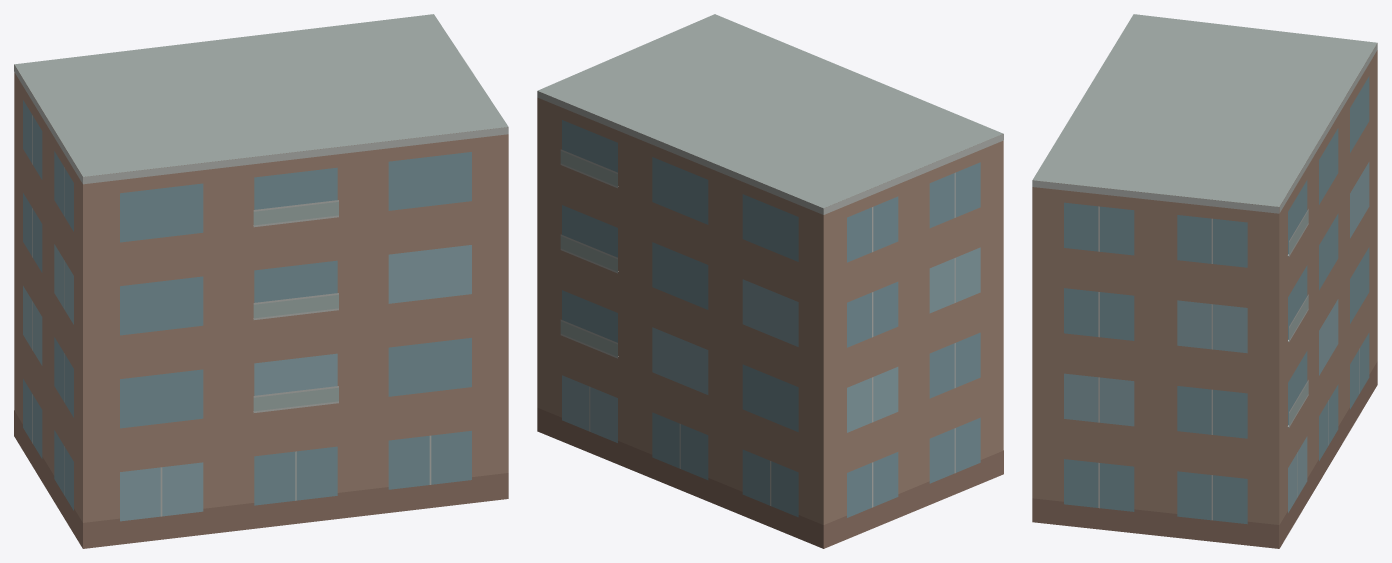
Rendered from survey-upis-32878435.glb.
3 renders of one model, left to right at view 1: azimuth 30°, elevation 25°; view 2: azimuth 150°, elevation 25°; view 3: azimuth 270°, elevation 25°, orthographic. The views are drawn at different scales.
Visible parts, largest first — view 1: survey-upis-32878435.tmp; view 2: survey-upis-32878435.tmp; view 3: survey-upis-32878435.tmp.
Boxes of the visible parts, x1,y1,x2,y2 form: survey-upis-32878435.tmp: [14, 14, 508, 548]; survey-upis-32878435.tmp: [537, 14, 1003, 548]; survey-upis-32878435.tmp: [1032, 14, 1377, 548].
Size of the model in its own units: 15.02 by 12.4 by 11.36.
